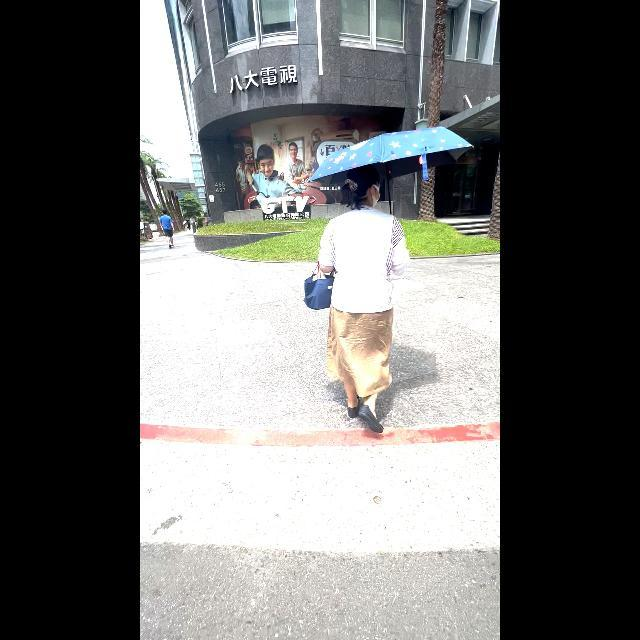sidewalk: (140, 432, 500, 640)
